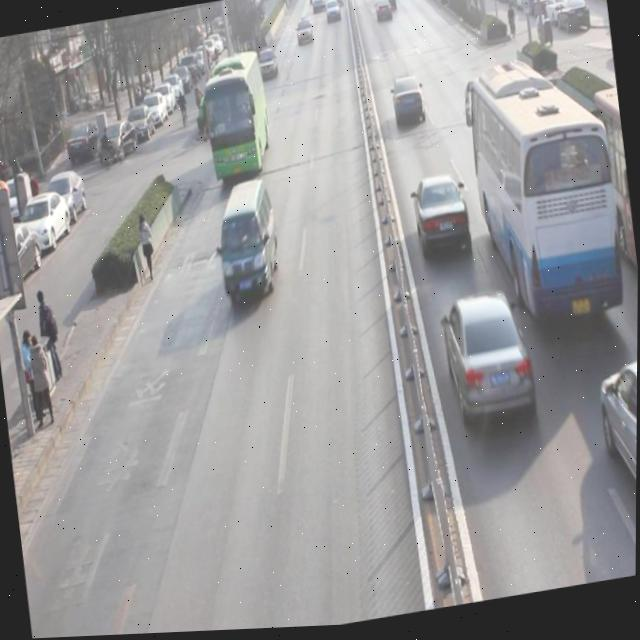car: (436, 284, 544, 439), (594, 358, 638, 549), (406, 174, 477, 264), (387, 75, 428, 132), (255, 46, 280, 83), (293, 19, 315, 52), (322, 0, 344, 31), (373, 0, 394, 26)
truck: (210, 179, 287, 312)
van: (462, 57, 626, 343), (585, 91, 639, 373), (199, 53, 274, 187)
